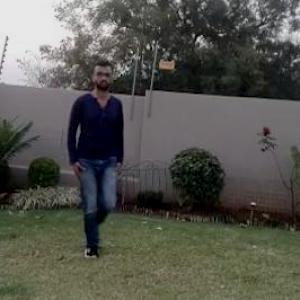follow: (69, 56, 124, 260)
